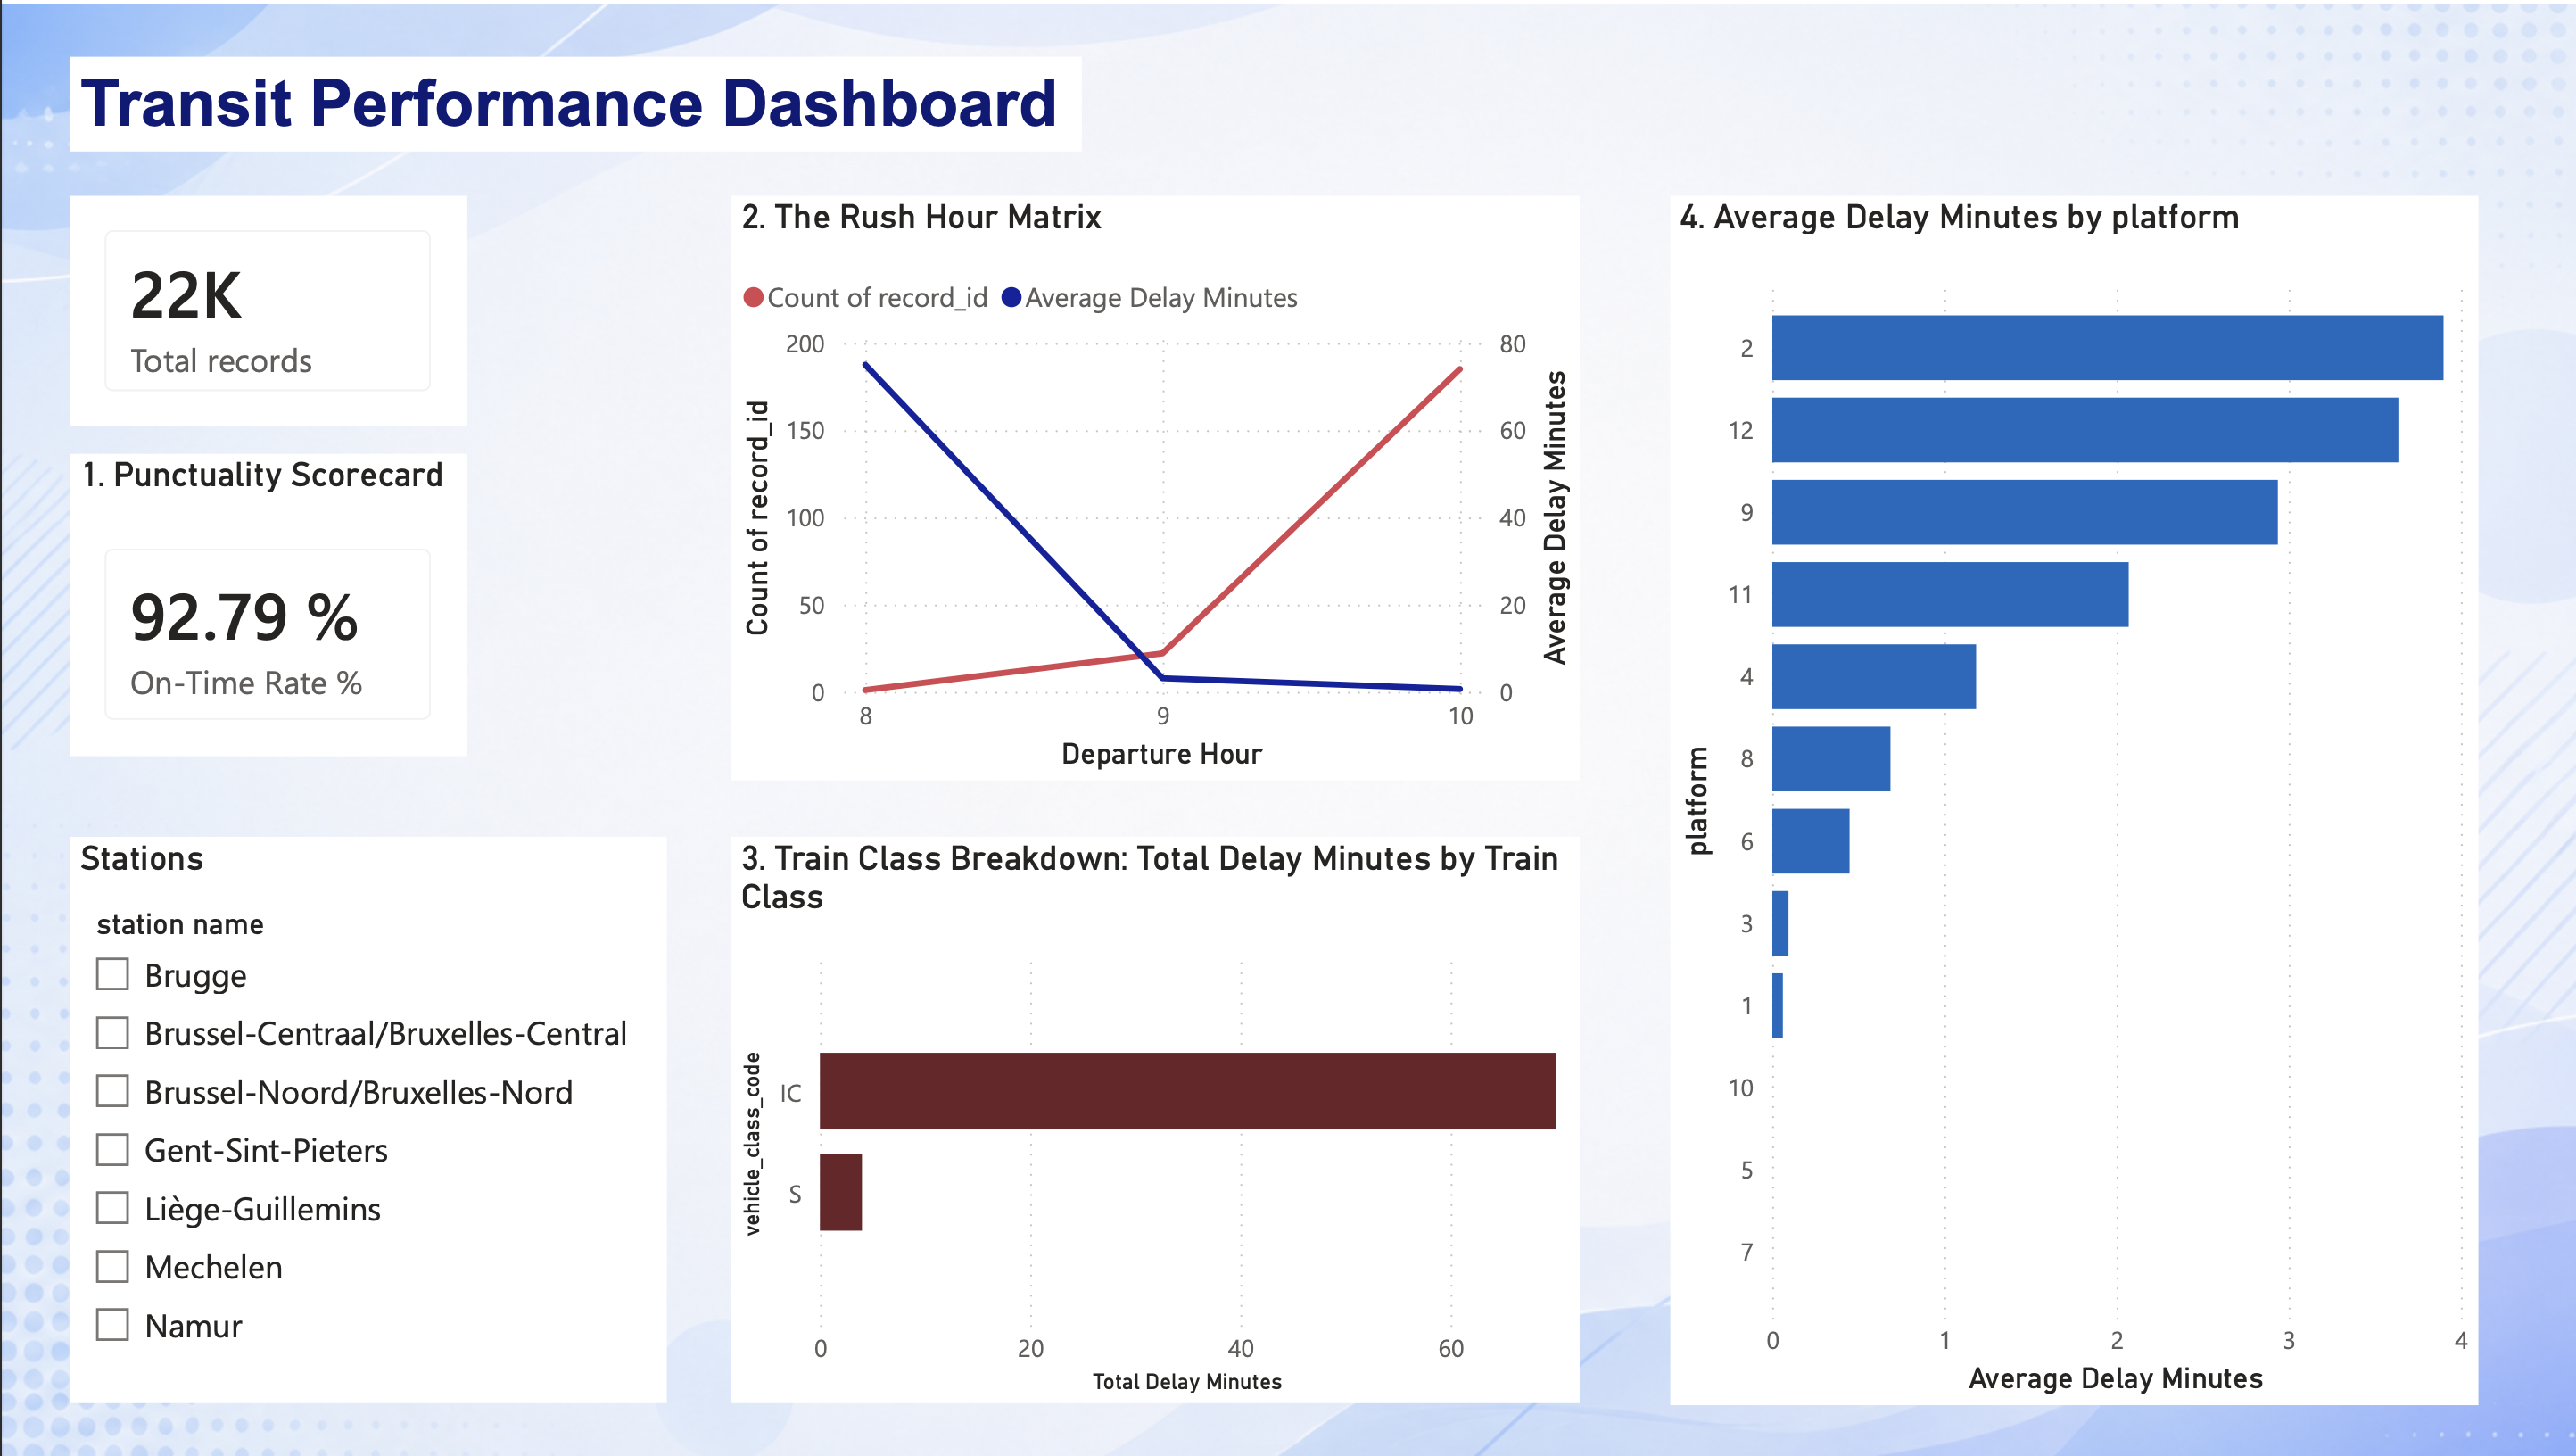

The dashboard page shown, as its layout file describes it:
{"tool":"powerbi","page":{"name":"Page 1","canvas":[1280,720],"ordinal":0},"visuals":[{"type":"slicer","title":"Stations","fields":{"Values":["stations.standard_name"]},"box":[34,413.3,296,280.7],"z":0},{"type":"cardVisual","title":"Total records","fields":{"Data":["Sum(liveboard_records.record_id)"]},"box":[33.6,94.6,196.8,114.4],"z":1000},{"type":"cardVisual","title":"1. Punctuality Scorecard","fields":{"Data":["liveboard_records.On-Time Rate %"]},"box":[34,222.6,196.8,149.5],"z":2000},{"type":"lineChart","title":"2. The Rush Hour Matrix","fields":{"Category":["liveboard_records.Departure Hour"],"Y":["CountNonNull(liveboard_records.record_id)"],"Y2":["liveboard_records.Average Delay Minutes"]},"box":[361.6,94.6,421.1,289.9],"z":3000},{"type":"clusteredBarChart","title":"3. Train Class Breakdown: Total Delay Minutes by Train Class","fields":{"Category":["vehicles.vehicle_class_code"],"Y":["liveboard_records.Total Delay Minutes"]},"box":[362,413.3,421.1,280.7],"z":4000},{"type":"clusteredBarChart","title":"4. Average Delay Minutes by platform","fields":{"Category":["liveboard_records.platform"],"Y":["liveboard_records.Average Delay Minutes"]},"box":[828.4,94.6,401.2,599.6],"z":5000},{"type":"textbox","box":[33.6,25.9,501.9,47.3],"z":6000}]}

Visuals, with their boxes in screenshot pixels (x1, y1, x2, y2), scaled from the page's 1280x720 canvas onto the 2576x1456 screenshot:
"Stations" slicer: left=69, top=836, right=665, bottom=1403
"Total records" cardVisual: left=68, top=191, right=464, bottom=423
"1. Punctuality Scorecard" cardVisual: left=69, top=451, right=465, bottom=752
"2. The Rush Hour Matrix" lineChart: left=728, top=191, right=1575, bottom=778
"3. Train Class Breakdown: Total Delay Minutes by Train Class" clusteredBarChart: left=729, top=836, right=1576, bottom=1403
"4. Average Delay Minutes by platform" clusteredBarChart: left=1667, top=191, right=2474, bottom=1404
textbox: left=68, top=53, right=1077, bottom=148
